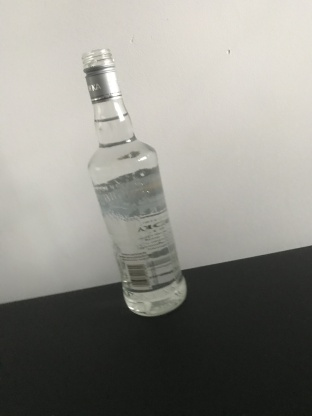nakretka: (79, 46, 123, 106)
